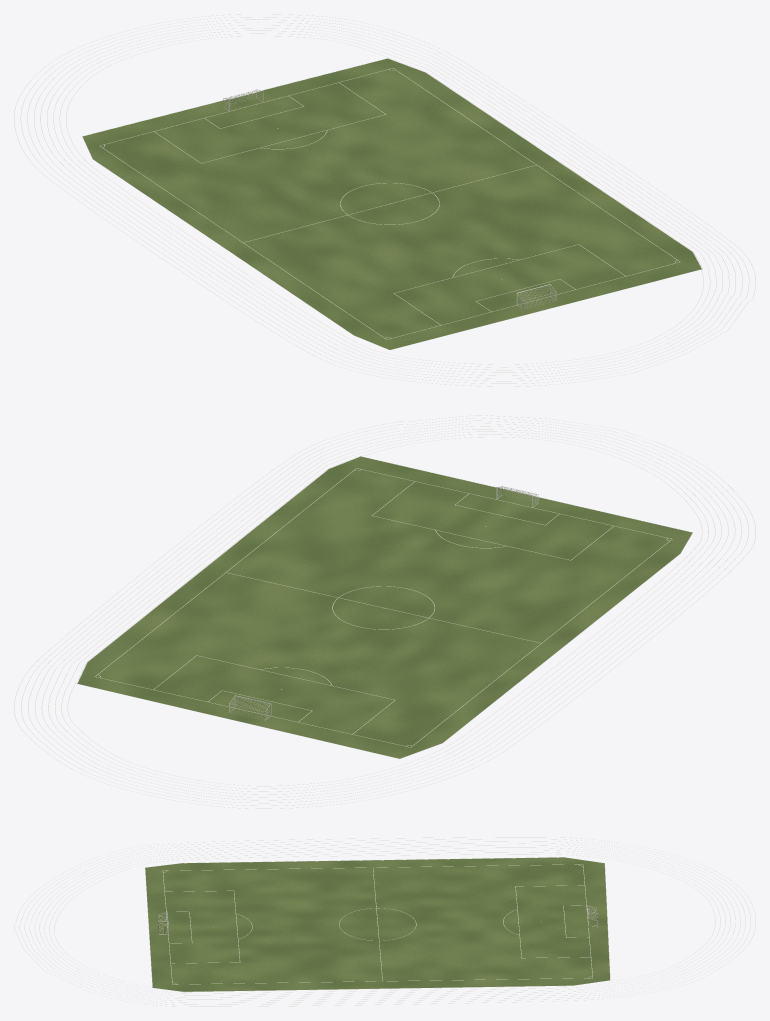
File: SEU_Taoyuan_track_detail_candidate.glb
3 views of the same model, one above another, from view 1: azimuth 30°, elevation 25°; view 2: azimuth 150°, elevation 25°; view 3: azimuth 270°, elevation 25° (orthographic). The views are drawn at different scales.
Visible parts, largest first — view 1: SEU_TAOYUAN_TRACK_DETAIL_TURF, SEU_TAOYUAN_TRACK_DETAIL_FOOTBALL_MARKINGS, SEU_TAOYUAN_TRACK_DETAIL_LANE_07, SEU_TAOYUAN_TRACK_DETAIL_LANE_08, SEU_TAOYUAN_TRACK_DETAIL_LANE_06, SEU_TAOYUAN_TRACK_DETAIL_LANE_04, SEU_TAOYUAN_TRACK_DETAIL_LANE_05, SEU_TAOYUAN_TRACK_DETAIL_LANE_03, SEU_TAOYUAN_TRACK_DETAIL_LANE_02, SEU_TAOYUAN_TRACK_DETAIL_INFIELD_EDGE, SEU_TAOYUAN_TRACK_DETAIL_LANE_01, SEU_TAOYUAN_TRACK_DETAIL_LANE_00; view 2: SEU_TAOYUAN_TRACK_DETAIL_TURF, SEU_TAOYUAN_TRACK_DETAIL_FOOTBALL_MARKINGS, SEU_TAOYUAN_TRACK_DETAIL_LANE_08, SEU_TAOYUAN_TRACK_DETAIL_LANE_07, SEU_TAOYUAN_TRACK_DETAIL_LANE_06, SEU_TAOYUAN_TRACK_DETAIL_LANE_04, SEU_TAOYUAN_TRACK_DETAIL_LANE_05, SEU_TAOYUAN_TRACK_DETAIL_LANE_03, SEU_TAOYUAN_TRACK_DETAIL_LANE_02, SEU_TAOYUAN_TRACK_DETAIL_LANE_01, SEU_TAOYUAN_TRACK_DETAIL_INFIELD_EDGE, SEU_TAOYUAN_TRACK_DETAIL_LANE_00; view 3: SEU_TAOYUAN_TRACK_DETAIL_TURF, SEU_TAOYUAN_TRACK_DETAIL_FOOTBALL_MARKINGS, SEU_TAOYUAN_TRACK_DETAIL_LANE_08, SEU_TAOYUAN_TRACK_DETAIL_LANE_06, SEU_TAOYUAN_TRACK_DETAIL_LANE_07, SEU_TAOYUAN_TRACK_DETAIL_LANE_04, SEU_TAOYUAN_TRACK_DETAIL_LANE_03, SEU_TAOYUAN_TRACK_DETAIL_LANE_02, SEU_TAOYUAN_TRACK_DETAIL_LANE_05, SEU_TAOYUAN_TRACK_DETAIL_LANE_00, SEU_TAOYUAN_TRACK_DETAIL_INFIELD_EDGE, SEU_TAOYUAN_TRACK_DETAIL_LANE_01.
Boxes of the visible parts, left/top/right/bottom form: SEU_TAOYUAN_TRACK_DETAIL_TURF: left=82, top=58, right=701, bottom=349; SEU_TAOYUAN_TRACK_DETAIL_FOOTBALL_MARKINGS: left=99, top=68, right=680, bottom=339; SEU_TAOYUAN_TRACK_DETAIL_LANE_07: left=20, top=17, right=749, bottom=383; SEU_TAOYUAN_TRACK_DETAIL_LANE_08: left=14, top=14, right=755, bottom=386; SEU_TAOYUAN_TRACK_DETAIL_LANE_06: left=27, top=19, right=742, bottom=381; SEU_TAOYUAN_TRACK_DETAIL_LANE_04: left=40, top=25, right=729, bottom=375; SEU_TAOYUAN_TRACK_DETAIL_LANE_05: left=34, top=22, right=735, bottom=378; SEU_TAOYUAN_TRACK_DETAIL_LANE_03: left=47, top=28, right=722, bottom=372; SEU_TAOYUAN_TRACK_DETAIL_LANE_02: left=53, top=30, right=716, bottom=370; SEU_TAOYUAN_TRACK_DETAIL_INFIELD_EDGE: left=82, top=58, right=701, bottom=349; SEU_TAOYUAN_TRACK_DETAIL_LANE_01: left=59, top=33, right=710, bottom=367; SEU_TAOYUAN_TRACK_DETAIL_LANE_00: left=66, top=36, right=703, bottom=364; SEU_TAOYUAN_TRACK_DETAIL_TURF: left=77, top=456, right=692, bottom=758; SEU_TAOYUAN_TRACK_DETAIL_FOOTBALL_MARKINGS: left=95, top=468, right=672, bottom=747; SEU_TAOYUAN_TRACK_DETAIL_LANE_08: left=14, top=415, right=755, bottom=808; SEU_TAOYUAN_TRACK_DETAIL_LANE_07: left=21, top=418, right=748, bottom=805; SEU_TAOYUAN_TRACK_DETAIL_LANE_06: left=28, top=420, right=742, bottom=803; SEU_TAOYUAN_TRACK_DETAIL_LANE_04: left=41, top=426, right=728, bottom=797; SEU_TAOYUAN_TRACK_DETAIL_LANE_05: left=35, top=423, right=735, bottom=800; SEU_TAOYUAN_TRACK_DETAIL_LANE_03: left=48, top=429, right=721, bottom=794; SEU_TAOYUAN_TRACK_DETAIL_LANE_02: left=55, top=431, right=715, bottom=791; SEU_TAOYUAN_TRACK_DETAIL_LANE_01: left=61, top=434, right=708, bottom=788; SEU_TAOYUAN_TRACK_DETAIL_INFIELD_EDGE: left=77, top=456, right=692, bottom=758; SEU_TAOYUAN_TRACK_DETAIL_LANE_00: left=67, top=437, right=702, bottom=786; SEU_TAOYUAN_TRACK_DETAIL_TURF: left=145, top=857, right=609, bottom=991; SEU_TAOYUAN_TRACK_DETAIL_FOOTBALL_MARKINGS: left=162, top=864, right=592, bottom=984; SEU_TAOYUAN_TRACK_DETAIL_LANE_08: left=14, top=837, right=755, bottom=1006; SEU_TAOYUAN_TRACK_DETAIL_LANE_06: left=24, top=841, right=745, bottom=1002; SEU_TAOYUAN_TRACK_DETAIL_LANE_07: left=19, top=839, right=750, bottom=1004; SEU_TAOYUAN_TRACK_DETAIL_LANE_04: left=34, top=845, right=735, bottom=999; SEU_TAOYUAN_TRACK_DETAIL_LANE_03: left=39, top=847, right=730, bottom=997; SEU_TAOYUAN_TRACK_DETAIL_LANE_02: left=44, top=850, right=725, bottom=995; SEU_TAOYUAN_TRACK_DETAIL_LANE_05: left=29, top=843, right=740, bottom=1000; SEU_TAOYUAN_TRACK_DETAIL_LANE_00: left=54, top=854, right=715, bottom=992; SEU_TAOYUAN_TRACK_DETAIL_INFIELD_EDGE: left=145, top=857, right=610, bottom=991; SEU_TAOYUAN_TRACK_DETAIL_LANE_01: left=49, top=852, right=720, bottom=993.
Bounding box in the file's own units: 95.57 × 2.52 × 176.
Materials: 5 (1 with a texture image).
